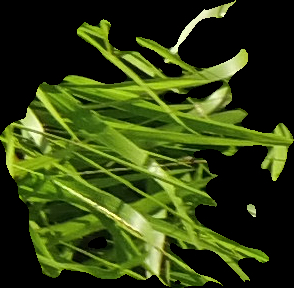grass: (1, 1, 292, 286)
